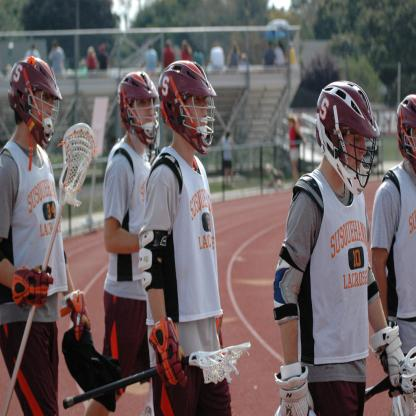Helmet: (320, 81, 381, 188), (157, 53, 218, 150), (5, 57, 65, 149), (116, 67, 165, 151), (391, 89, 416, 174)
